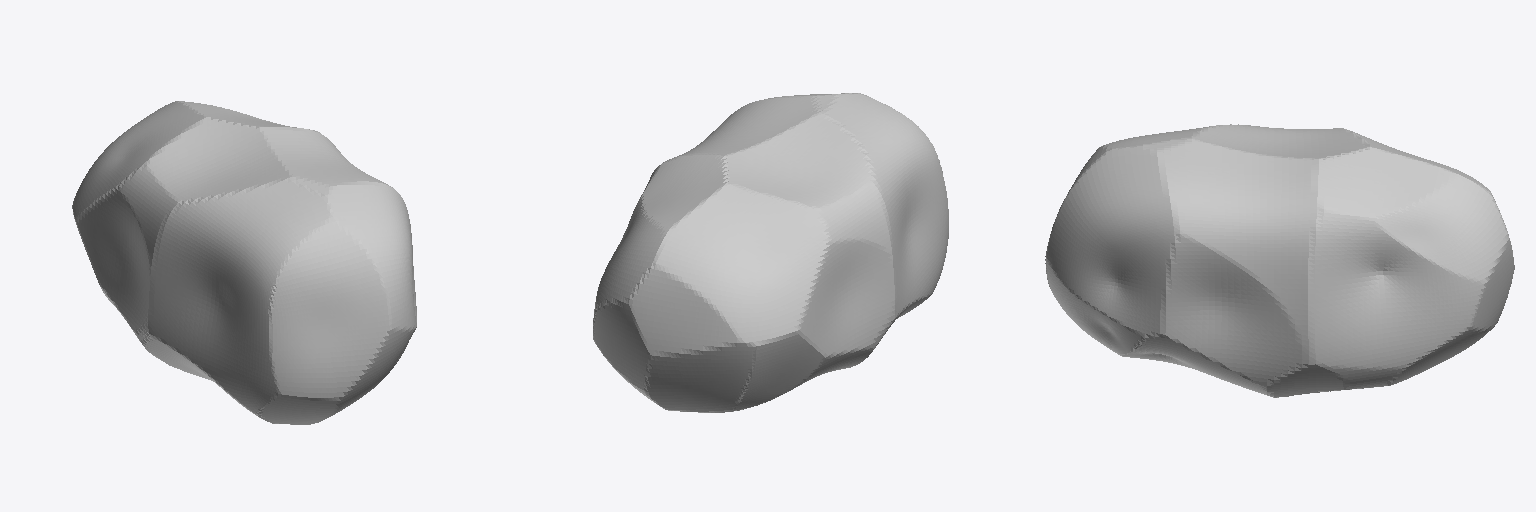
Rendered from roK.obj.
3 renders of one model, left to right at view 1: azimuth 30°, elevation 25°; view 2: azimuth 150°, elevation 25°; view 3: azimuth 270°, elevation 25°, orthographic.
Visible parts, largest first — view 1: Cube; view 2: Cube; view 3: Cube.
Boxes of the visible parts, x1,y1,x2,y2 form: Cube: [72, 101, 416, 424]; Cube: [593, 93, 948, 412]; Cube: [1045, 124, 1514, 397].
Bounding box in the file's own units: 2.28 × 2.1 × 3.94.